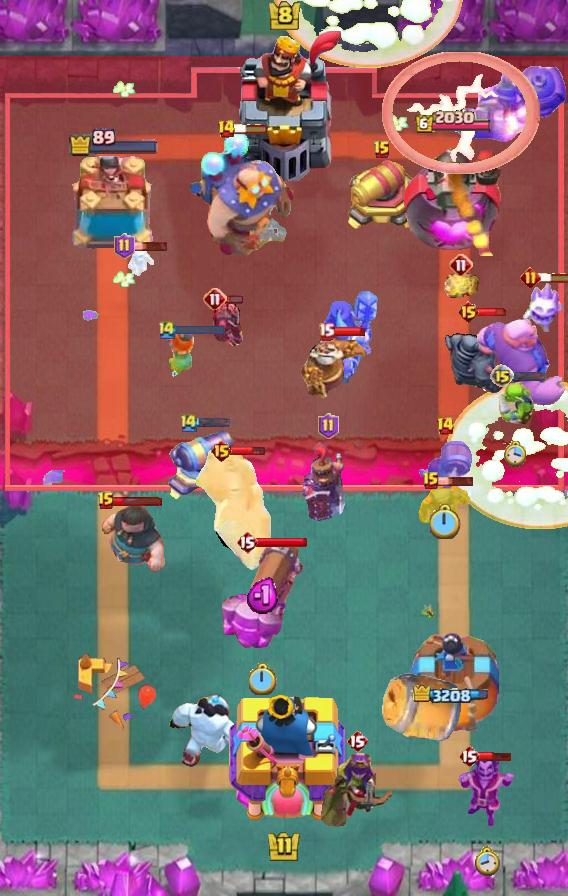balloon: (474, 316, 568, 408)
barbarian-evolution: (382, 52, 540, 174)
barbarian-hut: (316, 751, 398, 827)
battle-ram: (415, 482, 471, 528), (208, 296, 250, 350)
dirt: (382, 673, 464, 745)
electro-spirit: (247, 577, 282, 615)
elixir: (430, 504, 461, 539), (249, 663, 277, 695), (473, 844, 500, 875), (505, 440, 528, 467)
elixir-collector: (300, 328, 370, 400)
elixir-golem-big: (301, 440, 355, 522)
emote: (174, 324, 226, 337), (256, 536, 308, 548), (113, 497, 163, 508), (230, 443, 266, 456), (132, 240, 169, 252), (438, 475, 475, 487), (233, 123, 269, 135), (477, 750, 513, 762), (511, 371, 547, 382), (196, 416, 232, 427), (332, 327, 366, 338), (538, 272, 568, 284), (477, 307, 509, 317), (225, 294, 244, 305)
furnace: (218, 538, 308, 652)
golemite: (441, 315, 531, 395)
heal-spirit: (125, 246, 155, 278)
hog-rider: (161, 328, 199, 380)
ice-spirit-evolution: (441, 271, 481, 301)
inferno-dragon: (321, 289, 379, 383)
king-tower: (223, 31, 345, 181), (223, 689, 345, 826)
knight: (417, 440, 473, 500)
little-prince: (186, 131, 294, 257)
lumberjack: (455, 753, 517, 829)
mirror: (522, 280, 566, 334)
phoenix-big: (446, 379, 568, 528), (274, 0, 464, 68)
queen-tower: (68, 156, 160, 256), (407, 633, 499, 731)
rage: (165, 686, 245, 768)
royal-hog: (75, 502, 165, 576)
royal-recruit: (166, 420, 238, 504), (343, 157, 421, 233)
selected: (68, 127, 160, 156), (414, 110, 492, 135), (414, 685, 495, 707)
text: (449, 253, 473, 277), (203, 287, 227, 311), (490, 364, 514, 388), (457, 300, 480, 324), (210, 439, 233, 463), (114, 233, 135, 259), (318, 413, 339, 439), (236, 530, 258, 554), (346, 729, 368, 753), (458, 744, 480, 768), (520, 267, 541, 289), (179, 411, 199, 433), (157, 320, 177, 341), (216, 119, 235, 139), (436, 416, 455, 436), (373, 140, 391, 160), (422, 471, 440, 491), (97, 491, 115, 511), (318, 323, 335, 342)
tower-bar: (404, 138, 505, 256)
wizard: (444, 65, 568, 143), (196, 447, 272, 573)
zap: (495, 377, 535, 427)
